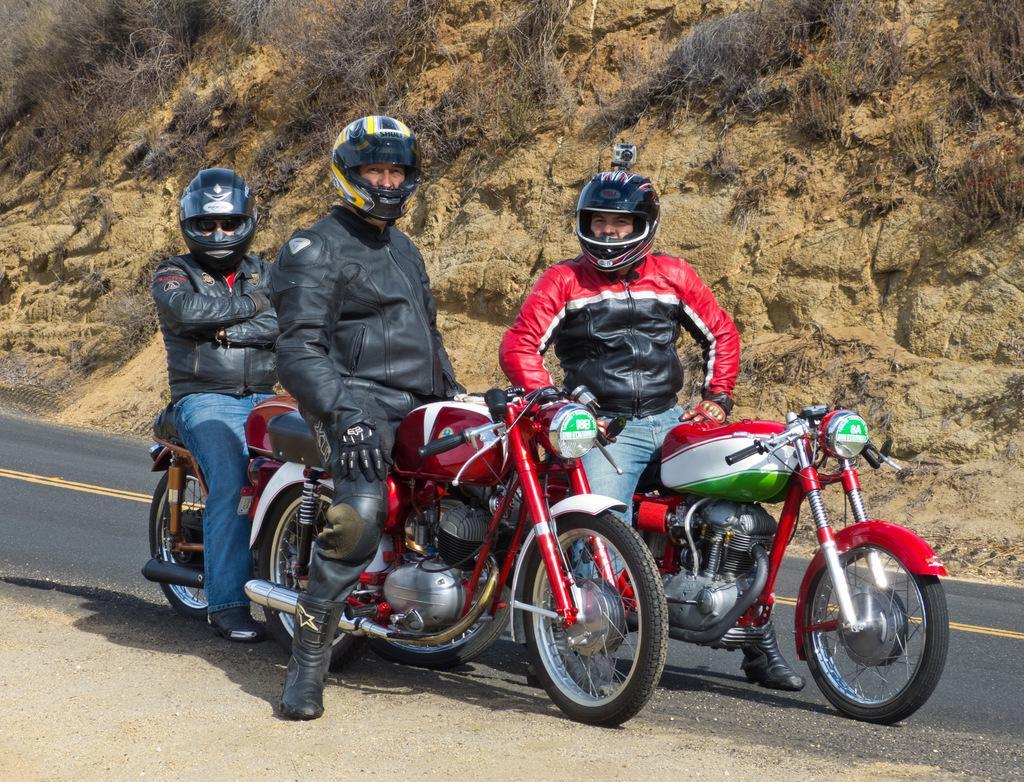helmet: (328, 113, 423, 221), (575, 169, 662, 274), (179, 167, 259, 274)
